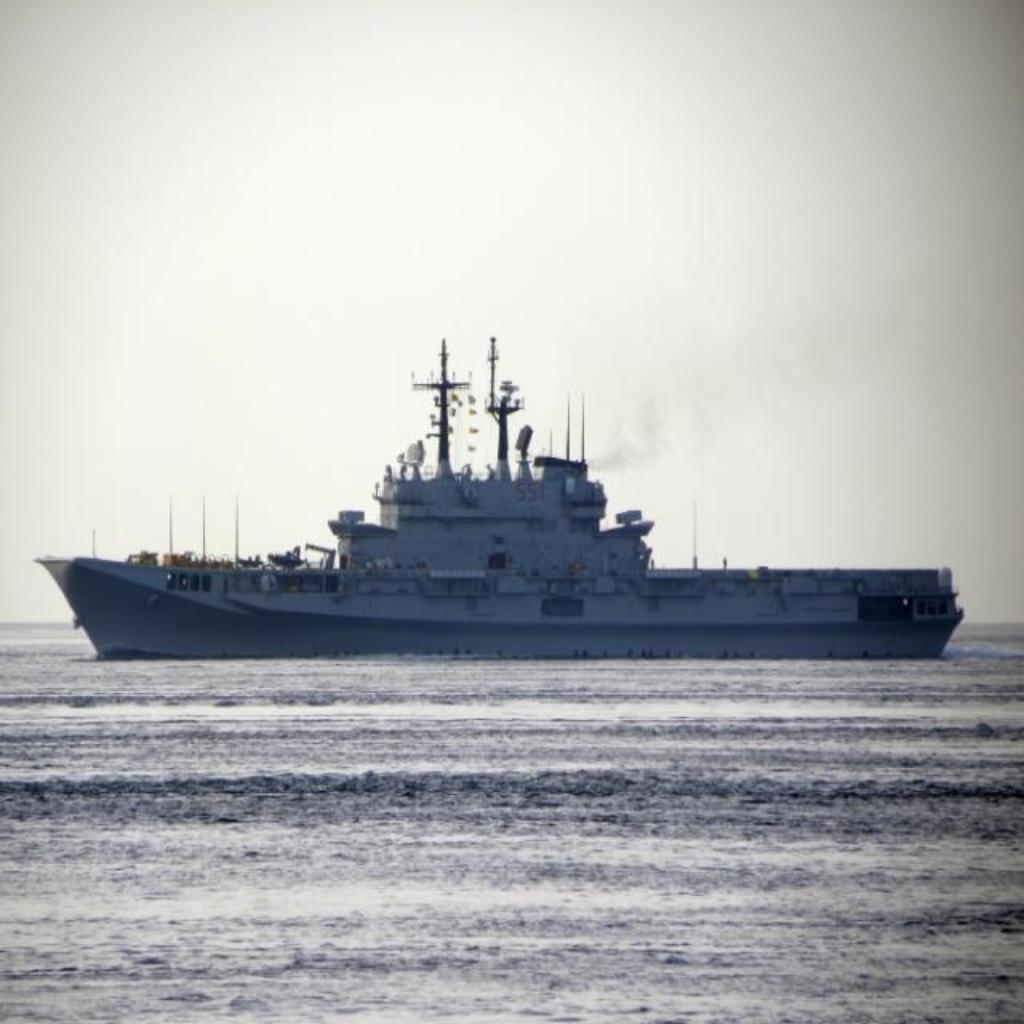Warship: (32, 332, 966, 662)
